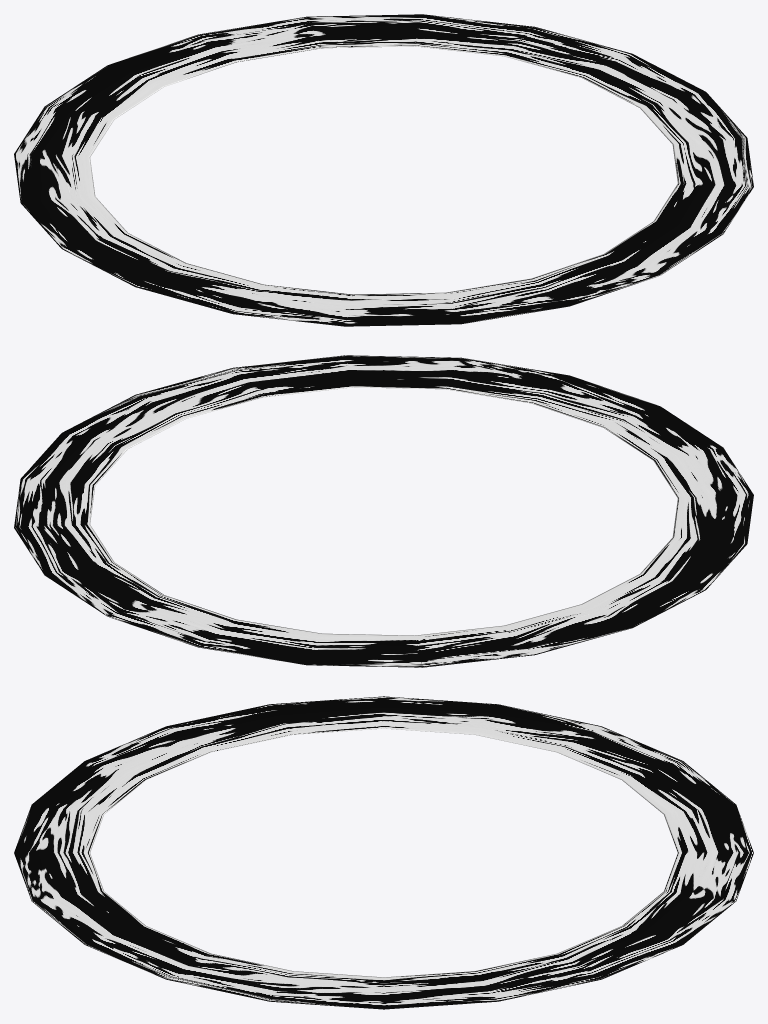
The model's file is Ring.fbx.
3 views of the same model, one above another, from view 1: azimuth 30°, elevation 25°; view 2: azimuth 150°, elevation 25°; view 3: azimuth 270°, elevation 25° (orthographic).
Visible parts, largest first — view 1: pasted__pTorus1; view 2: pasted__pTorus1; view 3: pasted__pTorus1.
Boxes of the visible parts, x1=… form: pasted__pTorus1: x1=14, y1=14, x2=753, y2=326; pasted__pTorus1: x1=14, y1=355, x2=753, y2=667; pasted__pTorus1: x1=14, y1=696, x2=753, y2=1009.
Bounding box in the file's own units: 33.9 × 0.0377 × 33.86.
1 material, 1 textured.
